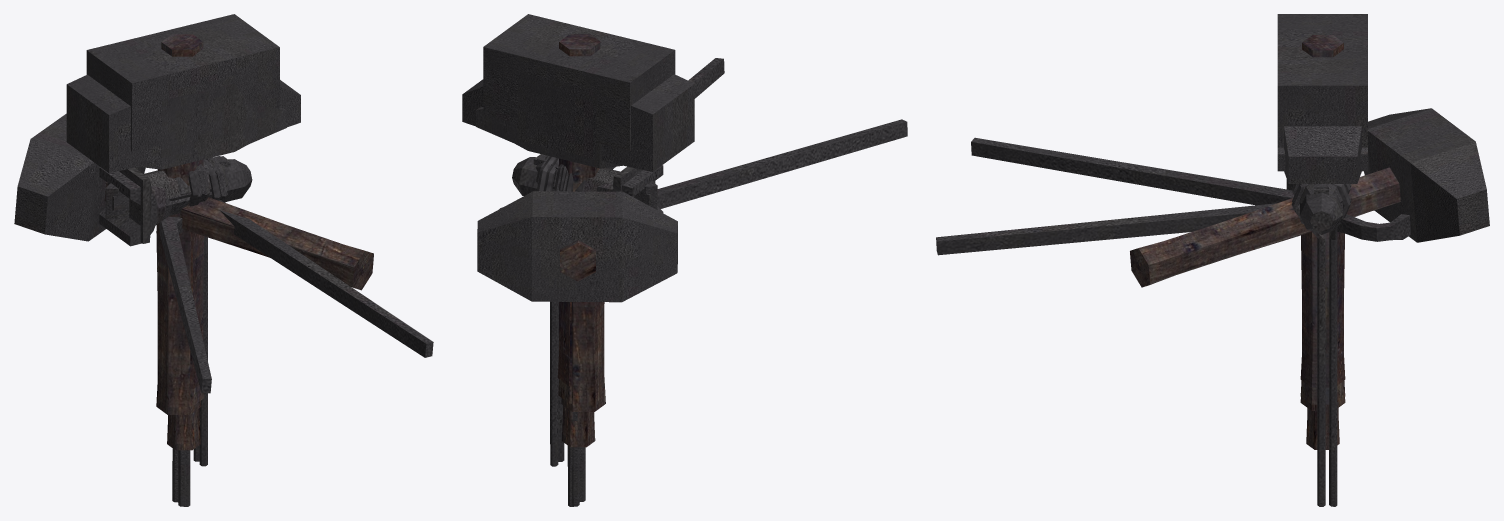
Rendered from tools.glb.
3 renders of one model, left to right at view 1: azimuth 30°, elevation 25°; view 2: azimuth 150°, elevation 25°; view 3: azimuth 270°, elevation 25°, orthographic.
Parts seen in each view (by area): view 1: Tools.049, Tools.053, Tools.051, Tools, Tools.047, Tools.036, Tools.027, Tools.034, Tools.045, Tools.029; view 2: Tools.053, Tools.049, Tools.047, Tools, Tools.051, Tools.036, Tools.045, Tools.027, Tools.034, Tools.029; view 3: Tools.053, Tools.049, Tools, Tools.036, Tools.047, Tools.045, Tools.029.
Boxes of the visible parts, bbox=[...] form: Tools.049: bbox=[86, 14, 279, 388]; Tools.053: bbox=[14, 113, 373, 290]; Tools.051: bbox=[139, 83, 286, 414]; Tools: bbox=[159, 200, 433, 393]; Tools.047: bbox=[66, 74, 300, 406]; Tools.036: bbox=[99, 157, 252, 466]; Tools.027: bbox=[108, 158, 228, 464]; Tools.034: bbox=[112, 161, 227, 506]; Tools.045: bbox=[167, 408, 200, 450]; Tools.029: bbox=[105, 156, 230, 506]; Tools.053: bbox=[477, 191, 677, 302]; Tools.049: bbox=[483, 14, 675, 386]; Tools.047: bbox=[462, 73, 694, 403]; Tools: bbox=[500, 58, 907, 208]; Tools.051: bbox=[476, 107, 622, 411]; Tools.036: bbox=[512, 156, 663, 466]; Tools.045: bbox=[561, 405, 595, 447]; Tools.027: bbox=[535, 156, 655, 465]; Tools.034: bbox=[537, 159, 650, 506]; Tools.029: bbox=[533, 154, 657, 506]; Tools.053: bbox=[1130, 108, 1489, 287]; Tools.049: bbox=[1277, 14, 1367, 387]; Tools: bbox=[936, 137, 1410, 255]; Tools.036: bbox=[1291, 184, 1351, 479]; Tools.047: bbox=[1284, 126, 1361, 404]; Tools.045: bbox=[1306, 404, 1339, 449]; Tools.029: bbox=[1291, 184, 1351, 506].
Size of the model in its own units: 0.2538 by 0.4333 by 0.4714.
2 materials, 2 textured.
